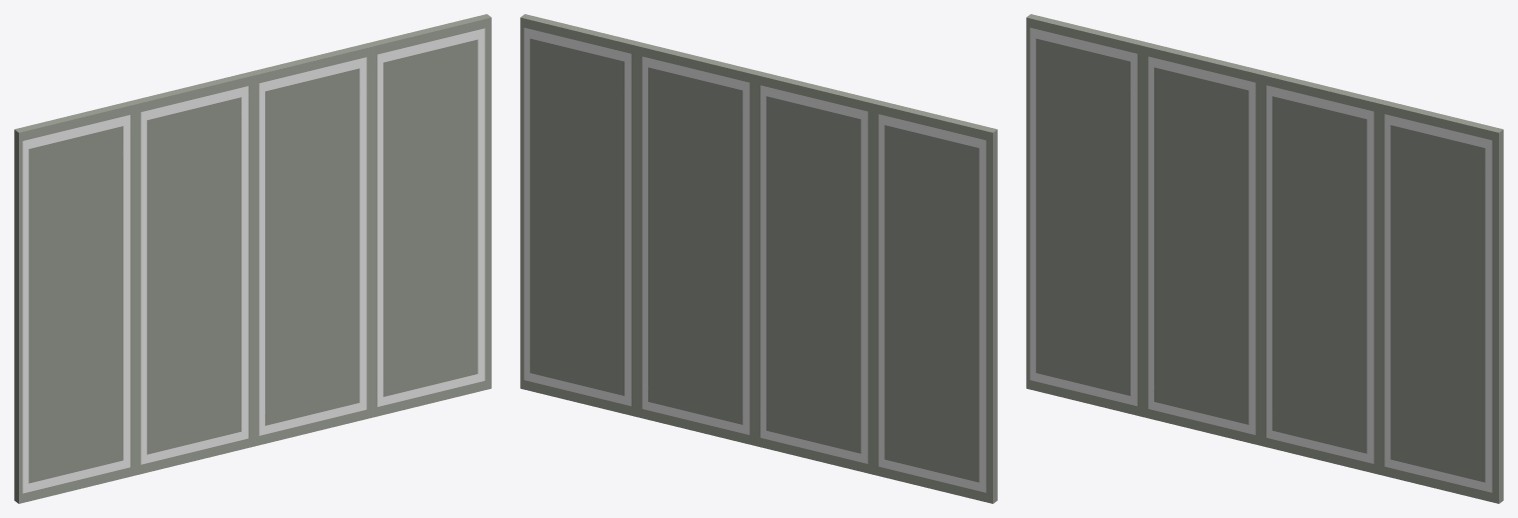
The model's file is Wall_Green_4m.fbx.
3 renders of one model, left to right at view 1: azimuth 30°, elevation 25°; view 2: azimuth 150°, elevation 25°; view 3: azimuth 330°, elevation 25°, orthographic.
Visible parts, largest first — view 1: Wall_Green_4m; view 2: Wall_Green_4m; view 3: Wall_Green_4m.
Part boxes in pixels (left/top/right/bottom): Wall_Green_4m: left=14, top=14, right=491, bottom=503; Wall_Green_4m: left=520, top=14, right=997, bottom=503; Wall_Green_4m: left=1026, top=14, right=1503, bottom=503.
Size of the model in its own units: 400 by 300 by 7.
